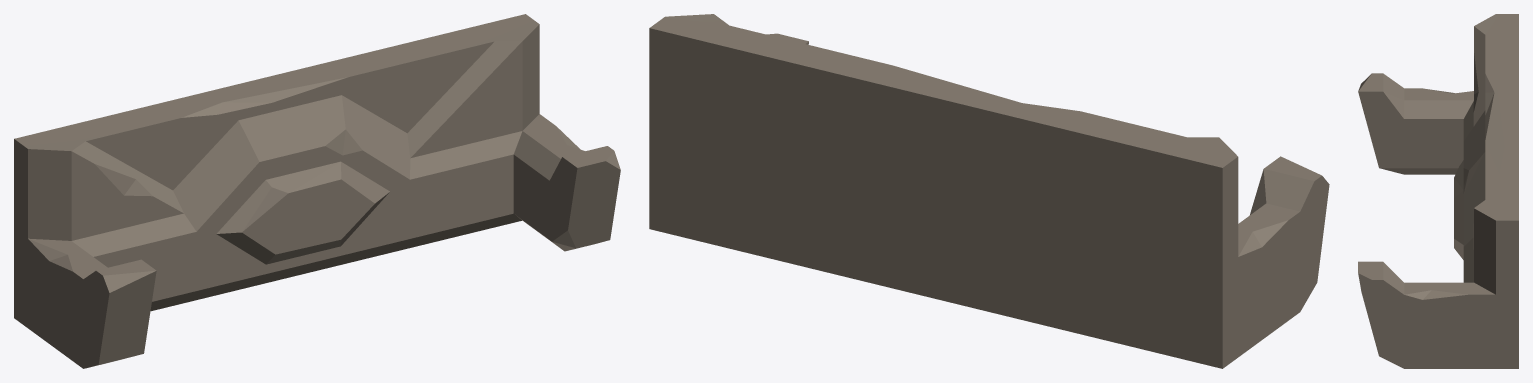
Rendered from forge_weapon_rack.gltf.
3 renders of one model, left to right at view 1: azimuth 30°, elevation 25°; view 2: azimuth 150°, elevation 25°; view 3: azimuth 270°, elevation 25°, orthographic. The views are drawn at different scales.
Parts seen in each view (by area): view 1: forge_weapon_rack; view 2: forge_weapon_rack; view 3: forge_weapon_rack.
Part boxes in pixels (x1,y1,x2,y2): forge_weapon_rack: (14,14,620,368); forge_weapon_rack: (649,14,1329,368); forge_weapon_rack: (1358,14,1518,368).
Bounding box in the file's own units: 0.6638 × 0.2226 × 0.2183.
Materials: 1 (1 with a texture image).
